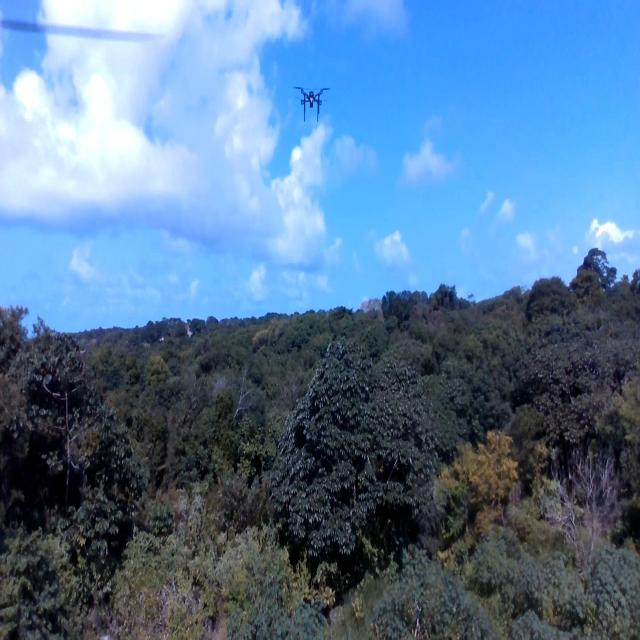-uav-: (287, 73, 335, 134)
